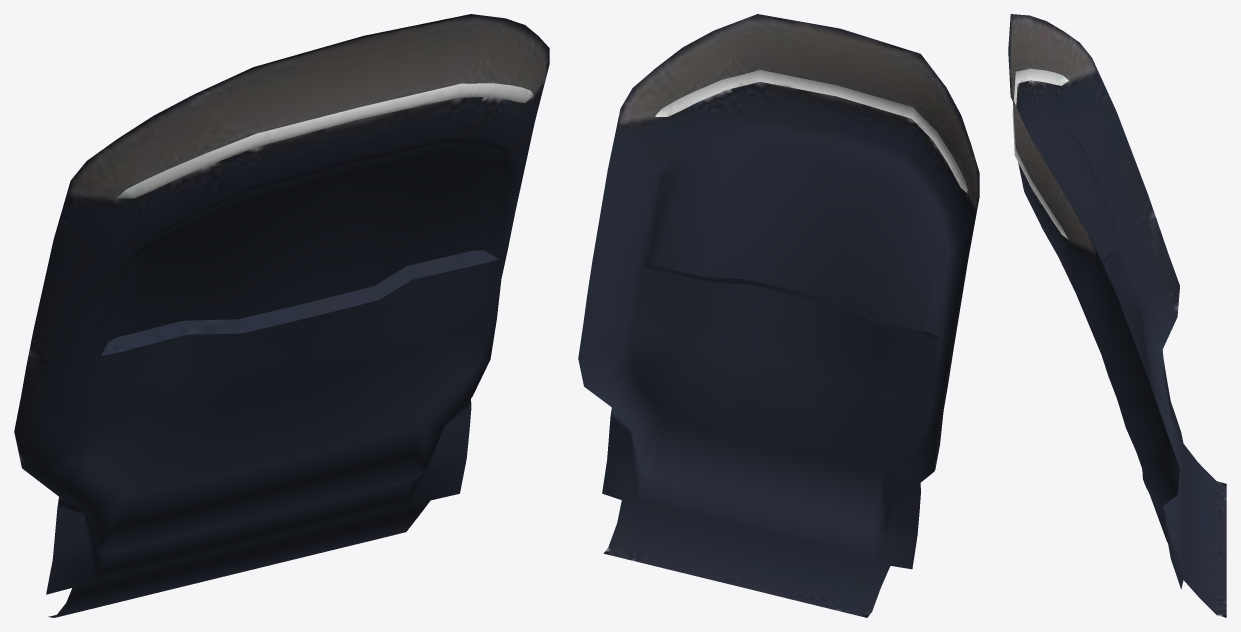
The model's file is seat-layout-a.glb.
3 renders of one model, left to right at view 1: azimuth 30°, elevation 25°; view 2: azimuth 150°, elevation 25°; view 3: azimuth 270°, elevation 25°, orthographic. The views are drawn at different scales.
Visible parts, largest first — view 1: Seat_Layout_A; view 2: Seat_Layout_A; view 3: Seat_Layout_A.
Boxes of the visible parts, box(x1,y1,x2,y2) form: Seat_Layout_A: box(14, 14, 549, 617); Seat_Layout_A: box(578, 14, 979, 617); Seat_Layout_A: box(1008, 14, 1226, 617).
Size of the model in its own units: 0.5238 by 0.6657 by 0.2637.
1 material, 1 textured.
